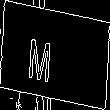M_N: (42, 27, 68, 83)
